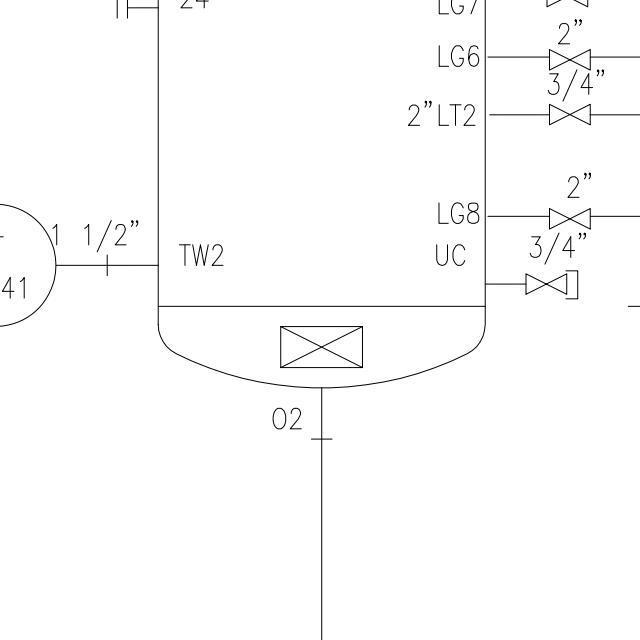EC: (502, 264, 581, 305)
GV: (545, 206, 594, 234), (545, 102, 597, 128), (522, 272, 568, 298), (546, 46, 594, 70)
